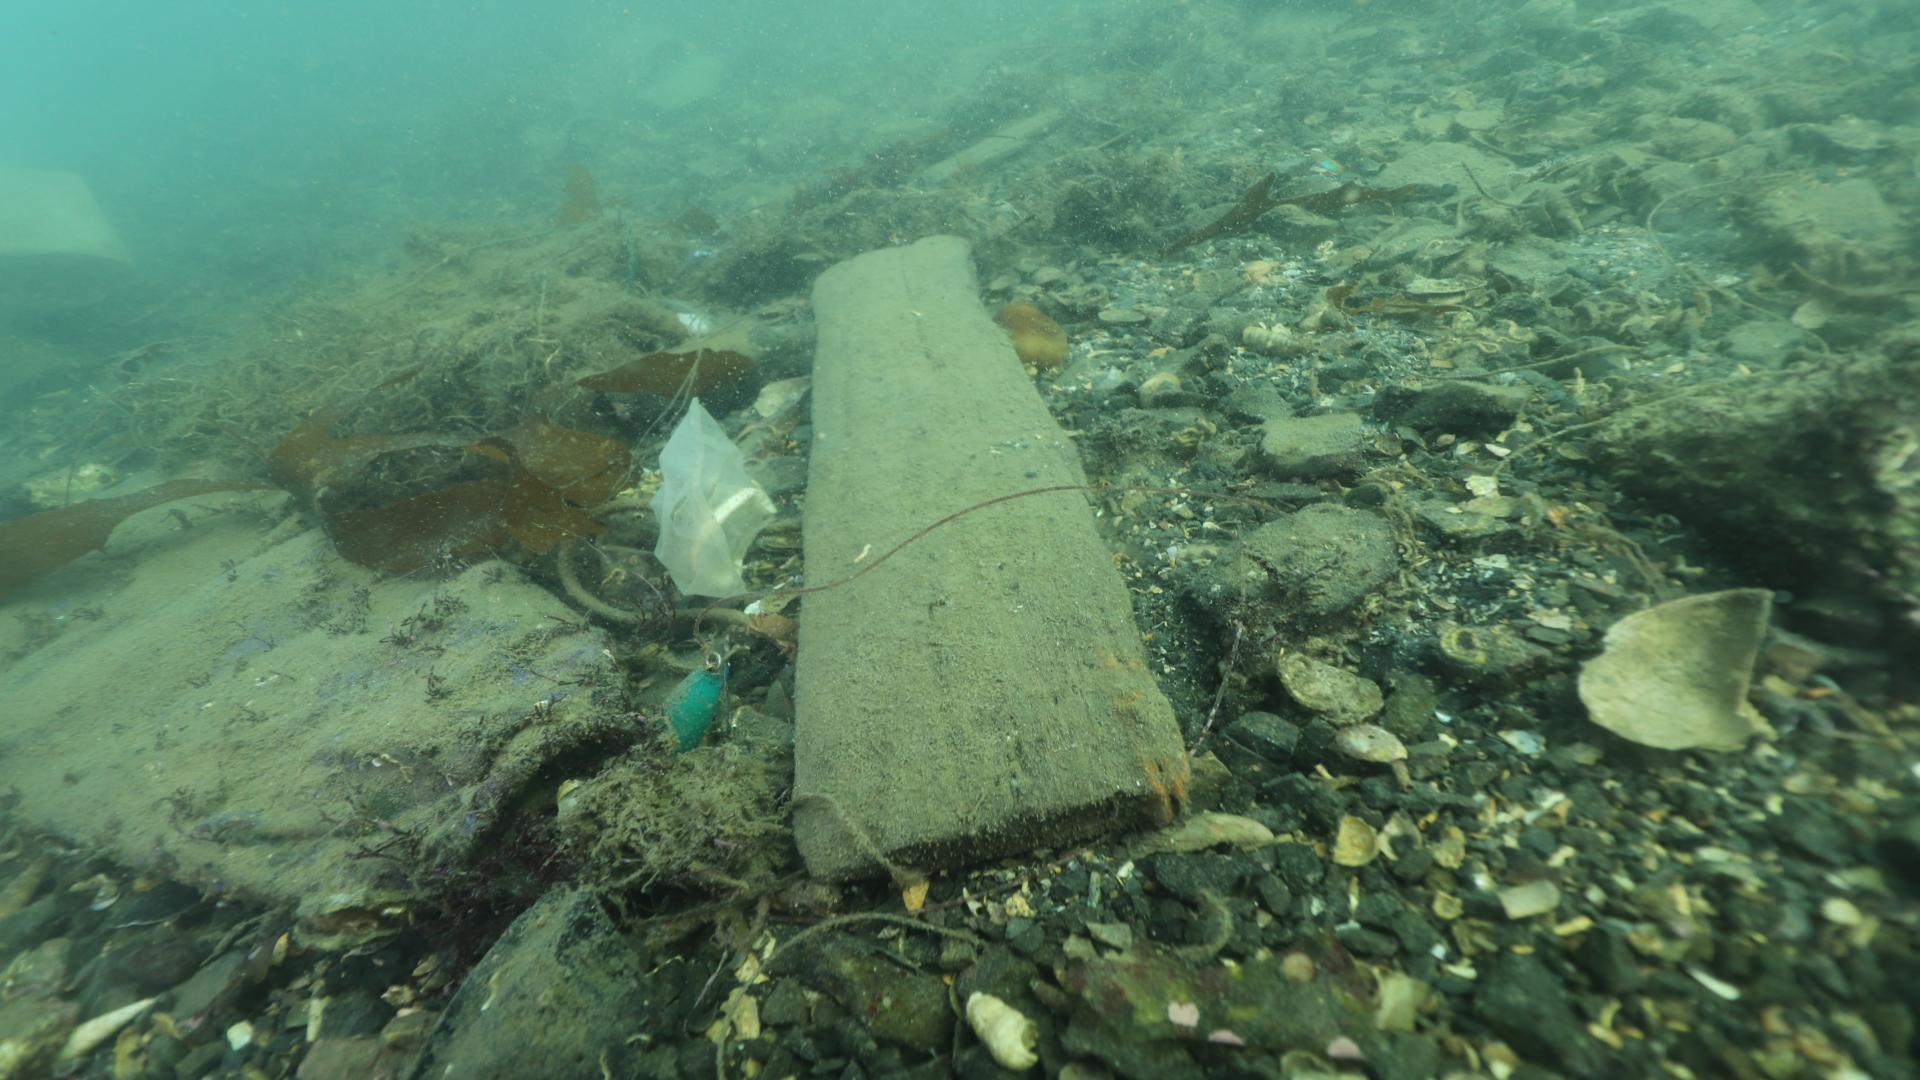wood: (789, 228, 1189, 884)
